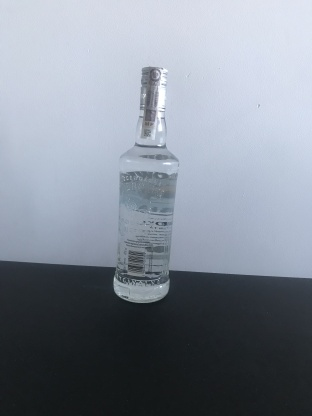nakretka: (137, 61, 170, 114)
